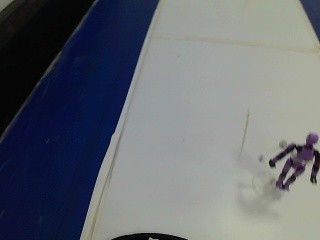pedestrian: (258, 119, 319, 211)
